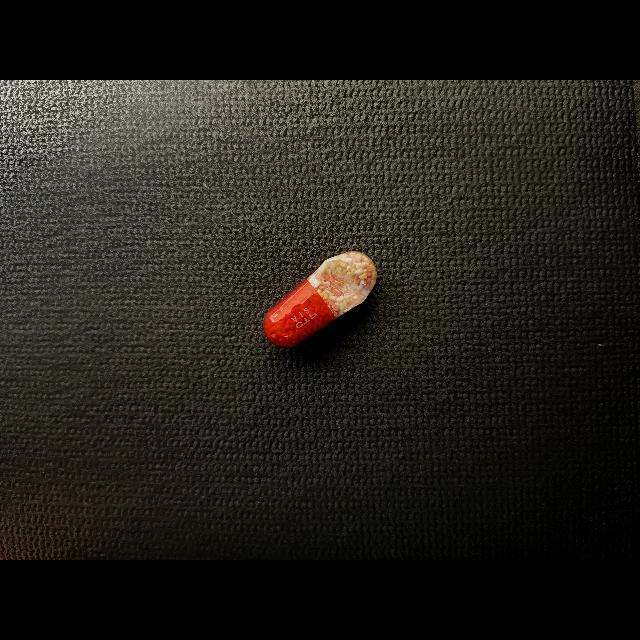Defective Capsule: (264, 251, 377, 348)
